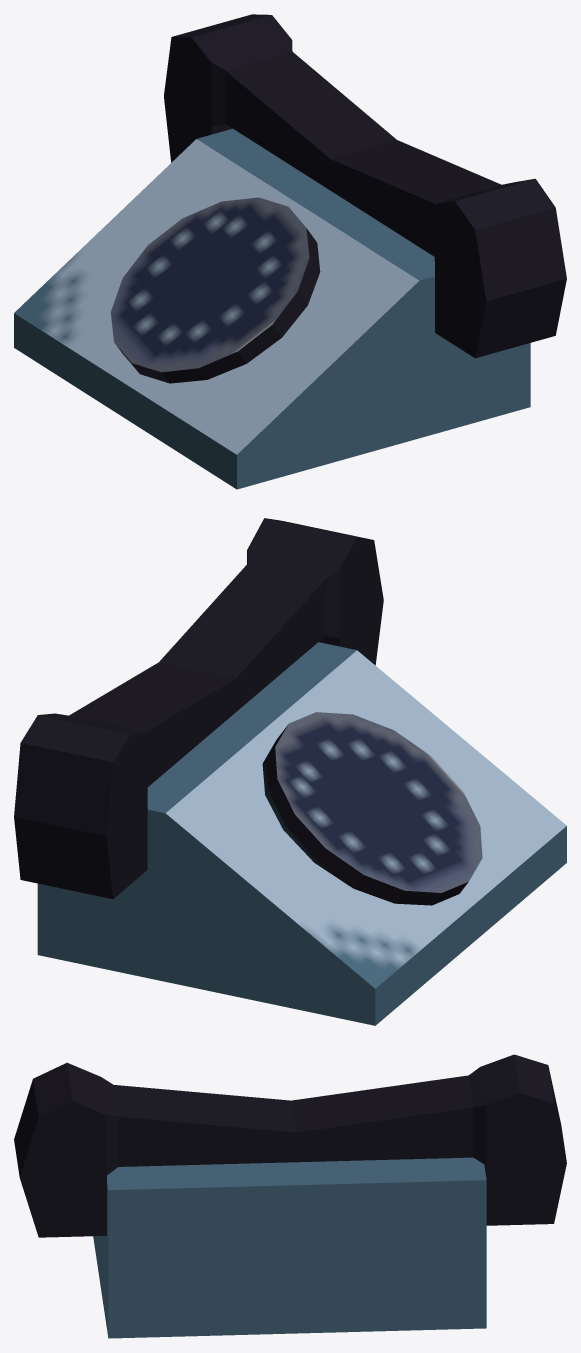
The model's file is Telefone.fbx.
3 renders of one model, top to bottom at view 1: azimuth 30°, elevation 25°; view 2: azimuth 150°, elevation 25°; view 3: azimuth 270°, elevation 25°, orthographic. The views are drawn at different scales.
Visible parts, largest first — view 1: Telefone; view 2: Telefone; view 3: Telefone.
Part boxes in pixels (left/top/right/bottom): Telefone: left=14, top=14, right=566, bottom=489; Telefone: left=14, top=518, right=566, bottom=1025; Telefone: left=14, top=1054, right=566, bottom=1338.
Bounding box in the file's own units: 40.56 × 63.19 × 29.14.
